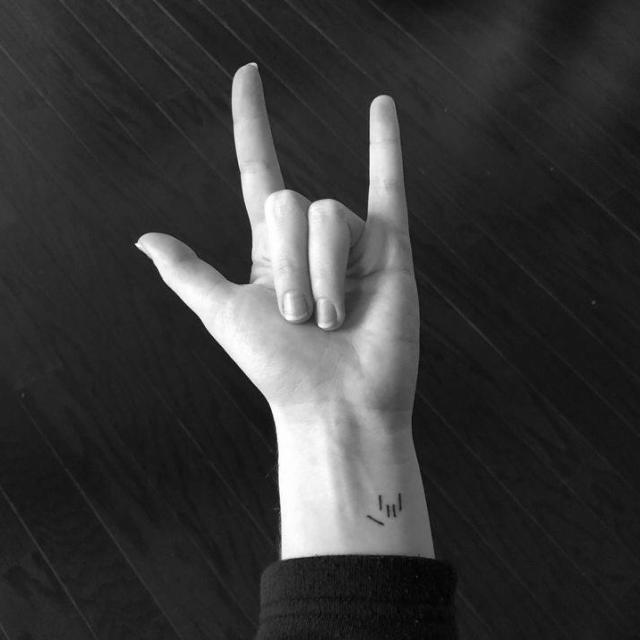i love you: (128, 54, 435, 456)
